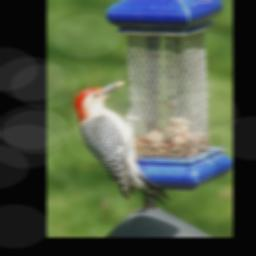Woodpecker: (74, 76, 176, 210)
